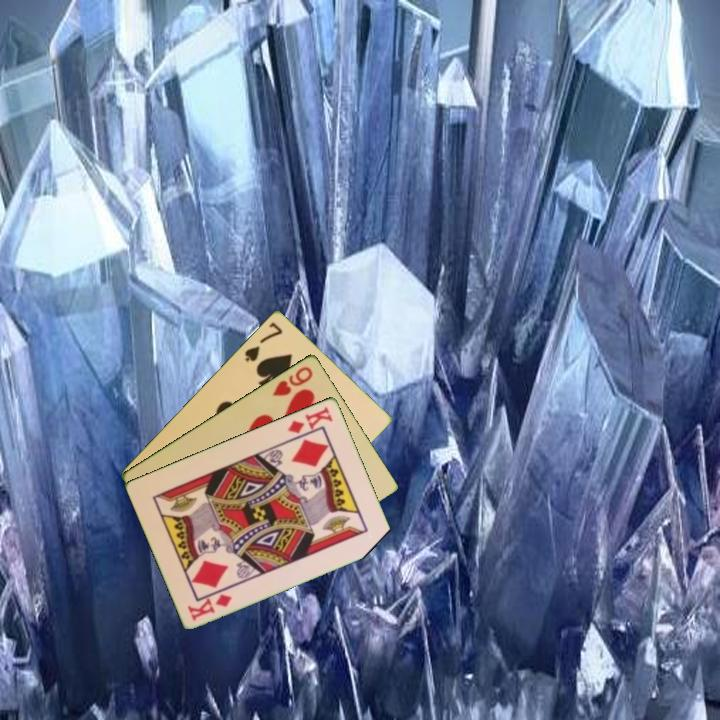7s: (241, 318, 285, 365)
9h: (269, 362, 316, 399)
Kd: (284, 403, 336, 442), (184, 590, 235, 623)
